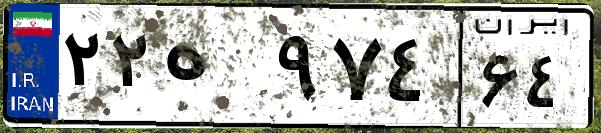2: (57, 26, 110, 100), (110, 28, 158, 98)
4: (385, 28, 445, 110), (525, 38, 570, 115)
6: (475, 38, 525, 113)
7: (330, 28, 385, 110)
9: (270, 28, 330, 110)
ه: (158, 20, 270, 120)
